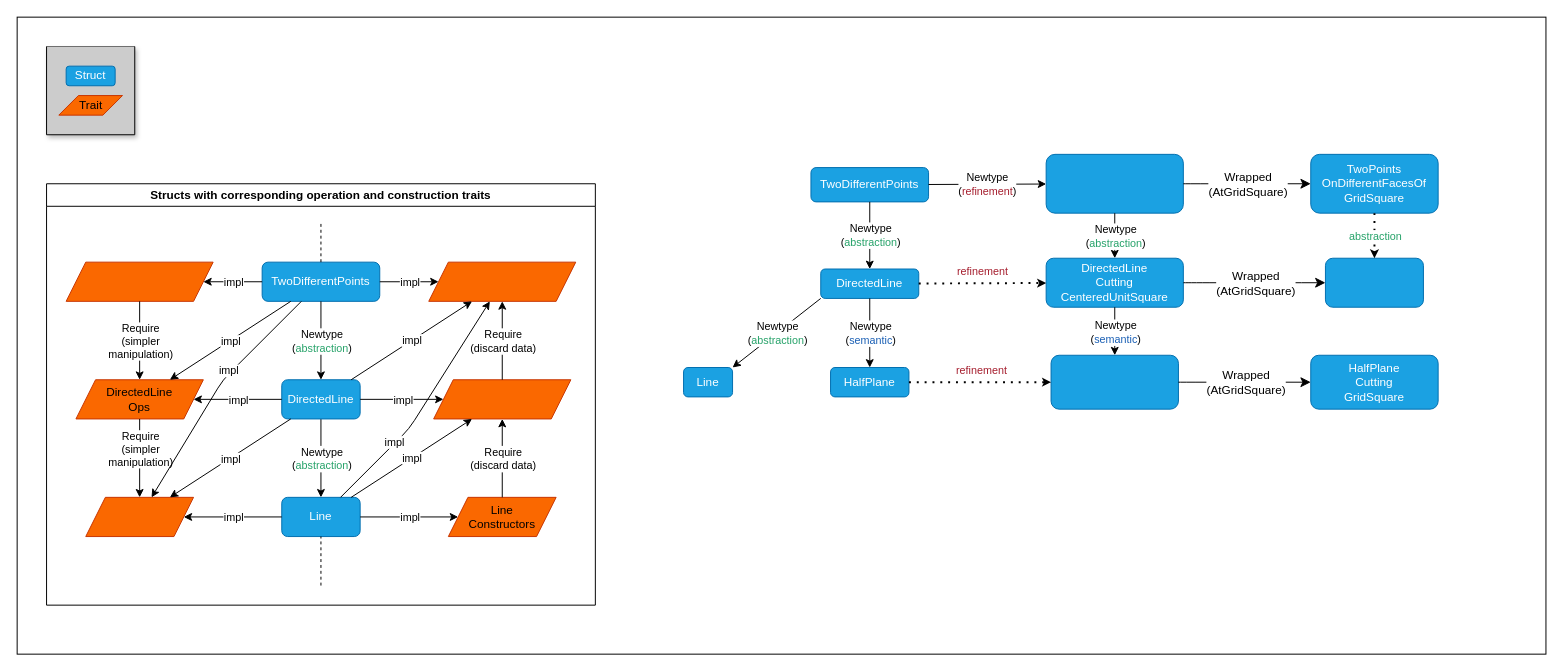
This 1563x671 diagram has some shape labels left out. The shapes that lost their labels are listed below. From the top down, each one's centre as x and y in pixels, then its label:
pixel 1114 183: TwoPoints OnDifferentFacesOf CenteredUnitSquare
pixel 139 281: TwoDifferentPoints Ops
pixel 502 281: TwoDifferentPoints Constructors
pixel 1373 282: DirectedLine Cutting GridSquare
pixel 502 399: DirectedLine Constructors
pixel 1114 381: HalfPlane Cutting CenteredUnitSquare
pixel 139 516: Line Ops
